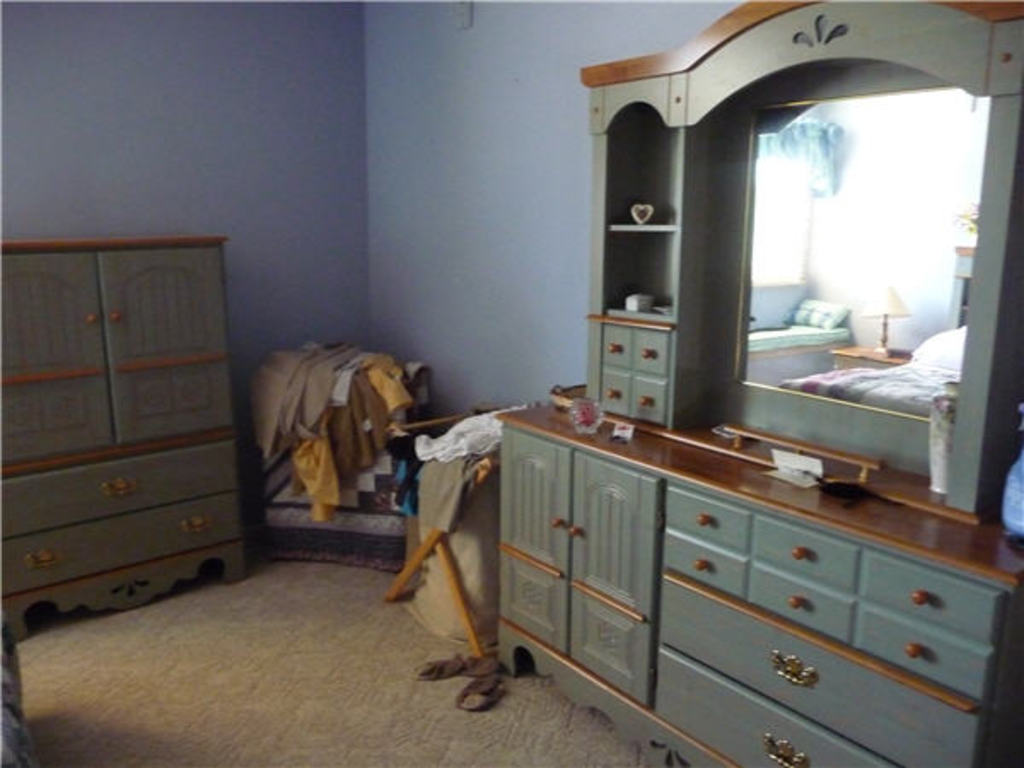cabinet door: (689, 626, 957, 701), (106, 252, 214, 430), (6, 263, 99, 455), (691, 702, 890, 752), (574, 468, 648, 594), (51, 458, 233, 499), (24, 523, 228, 558), (873, 567, 999, 622), (876, 622, 1006, 669), (574, 595, 647, 676), (509, 437, 562, 544), (500, 566, 578, 637), (766, 574, 844, 629), (761, 524, 846, 574), (665, 546, 750, 594), (685, 503, 751, 546), (633, 378, 668, 421), (630, 332, 665, 373), (603, 327, 632, 365), (605, 370, 632, 404)
handle: (571, 581, 650, 615), (770, 653, 822, 700), (500, 544, 558, 574), (763, 733, 806, 768), (99, 474, 145, 501), (25, 549, 67, 570), (899, 638, 925, 667), (911, 583, 938, 609), (105, 297, 124, 333), (697, 507, 722, 534), (694, 556, 716, 585), (788, 539, 814, 563), (786, 589, 808, 617), (184, 516, 218, 532), (546, 513, 566, 537), (604, 383, 626, 404), (639, 340, 657, 362), (572, 527, 594, 545), (82, 304, 97, 330), (638, 386, 654, 406), (610, 337, 622, 356)
